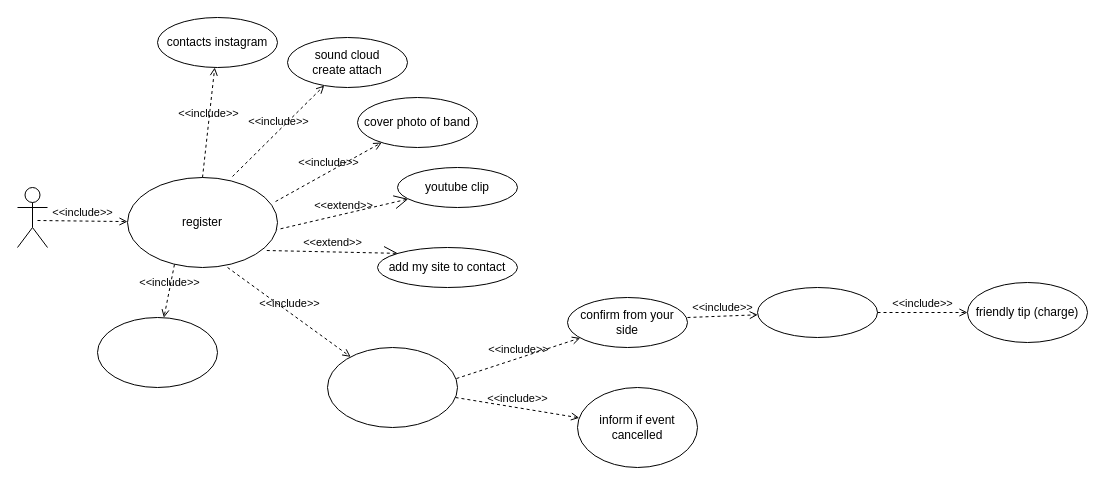
The diagram is 1105 pixels wide and 485 high, and some of its shapes have lost their labels. The shapes that lost their labels are listed below. From the top down, each one's box as (x1, y1, x2, y2) in pixels, then its label:
(16, 186, 48, 248): Band
(756, 286, 878, 338): make performance (live)
(96, 316, 218, 388): use website as client (cafe)
(326, 346, 458, 428): see my confirmed events by client (cafe)
